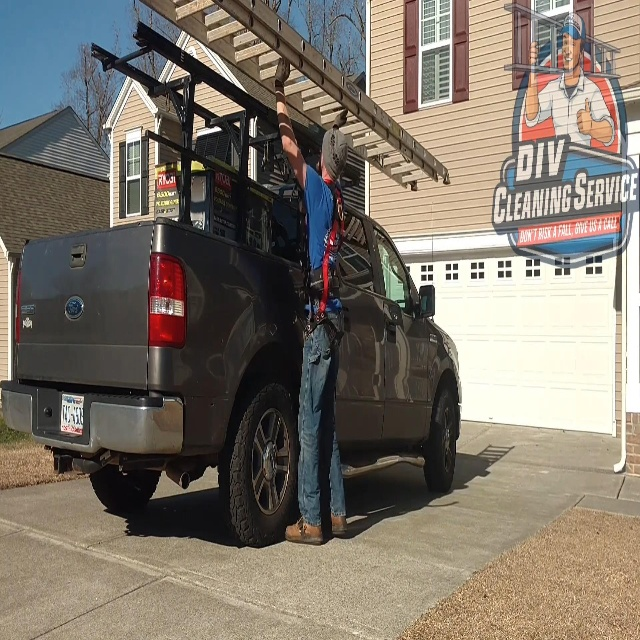Arnes_seguridad: (304, 172, 347, 346)
